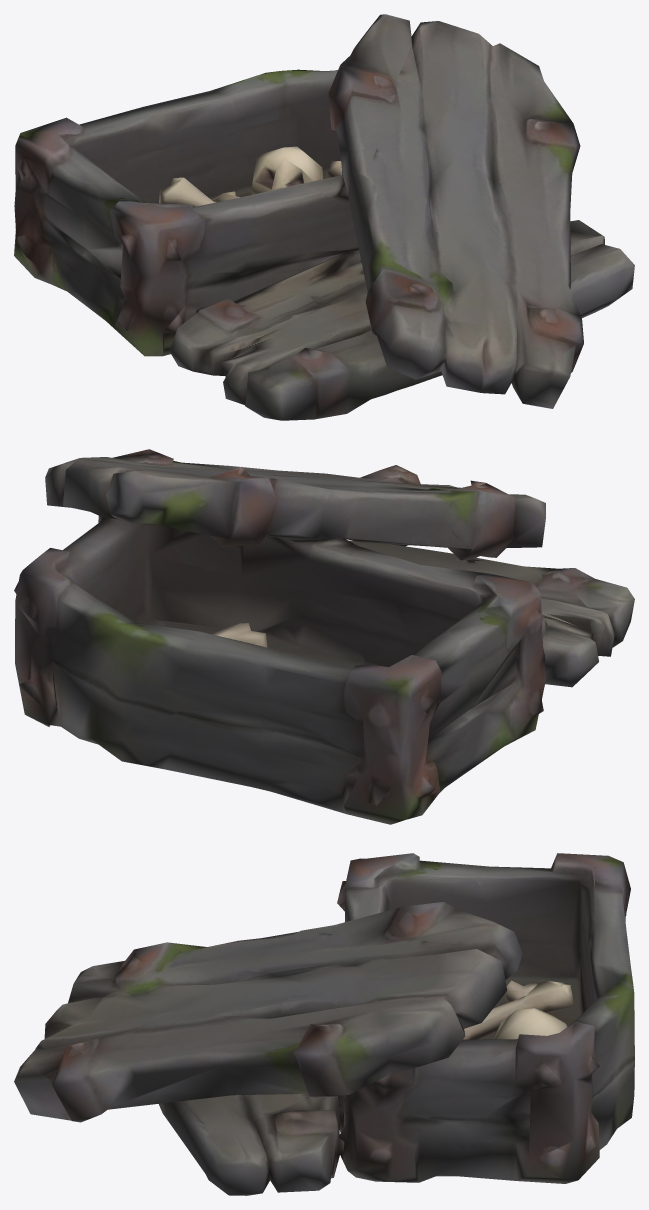
The model's file is gy_coffin-CDIcIBuz.glb.
3 views of the same model, one above another, from view 1: azimuth 30°, elevation 25°; view 2: azimuth 150°, elevation 25°; view 3: azimuth 270°, elevation 25° (orthographic). The views are drawn at different scales.
Parts seen in each view (by area): view 1: tripo_node_192bd171-4403-4b2c-8f5e-b9336ddf9f84; view 2: tripo_node_192bd171-4403-4b2c-8f5e-b9336ddf9f84; view 3: tripo_node_192bd171-4403-4b2c-8f5e-b9336ddf9f84.
Boxes of the visible parts, x1,y1,x2,y2 form: tripo_node_192bd171-4403-4b2c-8f5e-b9336ddf9f84: [14, 14, 634, 420]; tripo_node_192bd171-4403-4b2c-8f5e-b9336ddf9f84: [14, 449, 634, 824]; tripo_node_192bd171-4403-4b2c-8f5e-b9336ddf9f84: [14, 853, 634, 1195].
Bounding box in the file's own units: 0.8401 × 0.4022 × 1.
Materials: 1 (1 with a texture image).
